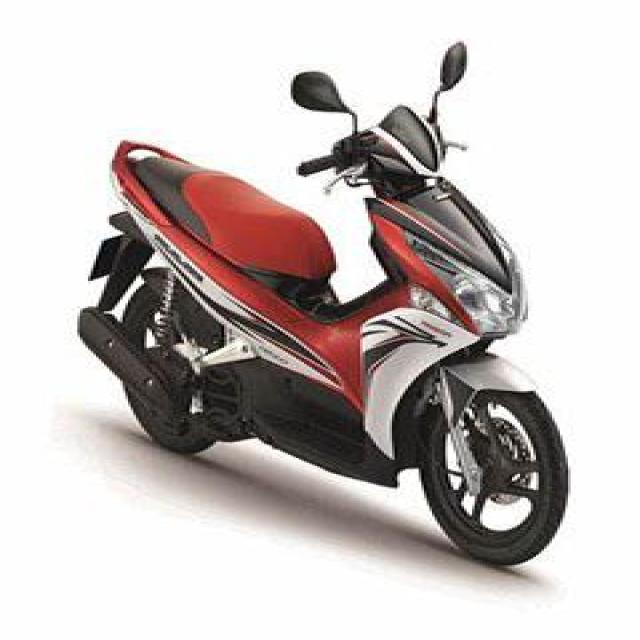motorcycle: (41, 19, 591, 575)
